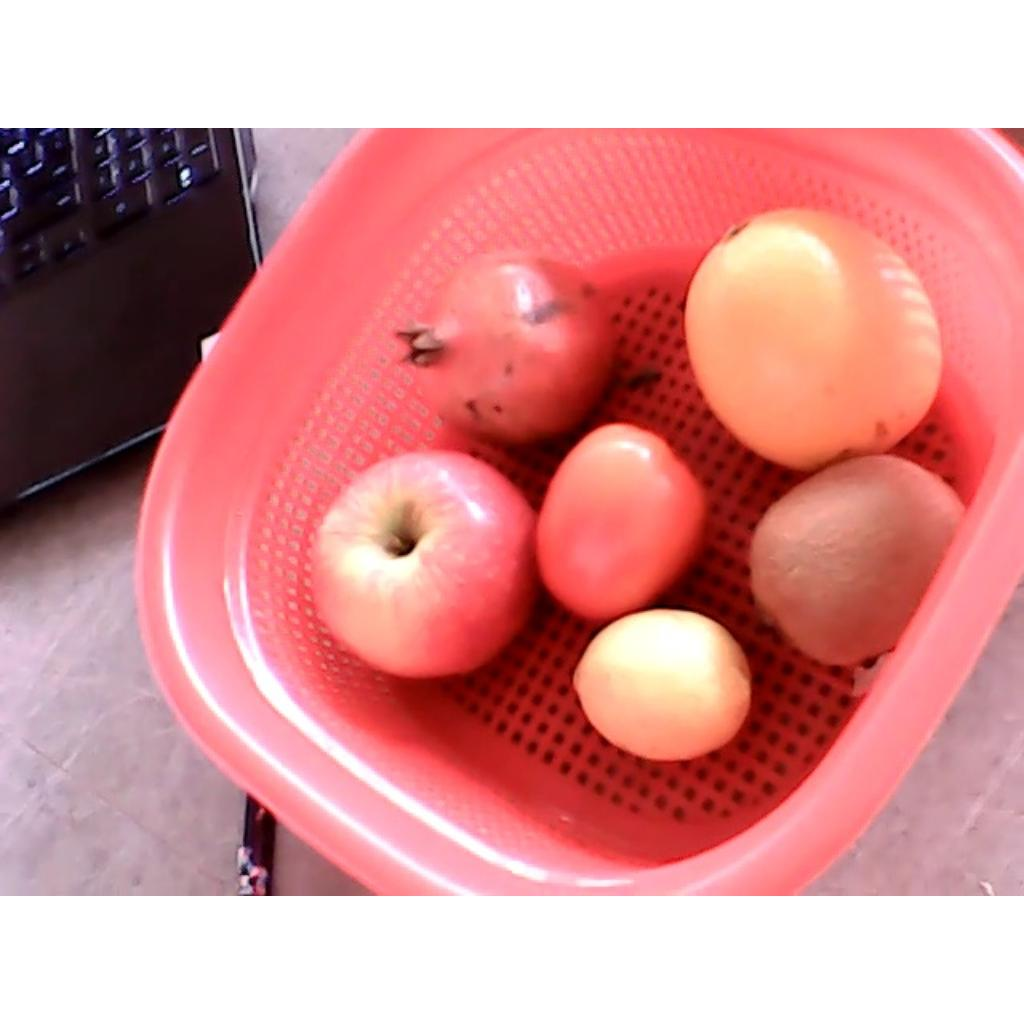apple: (306, 447, 537, 685)
kiwi: (750, 453, 964, 677)
lemon: (572, 610, 752, 762)
orange: (684, 207, 946, 470)
pomegranate: (393, 252, 619, 451)
tomato: (537, 419, 710, 623)
